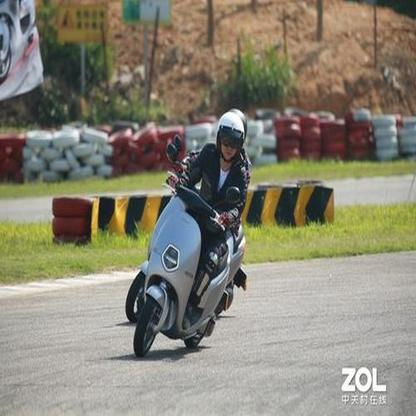target: (131, 111, 248, 359)
